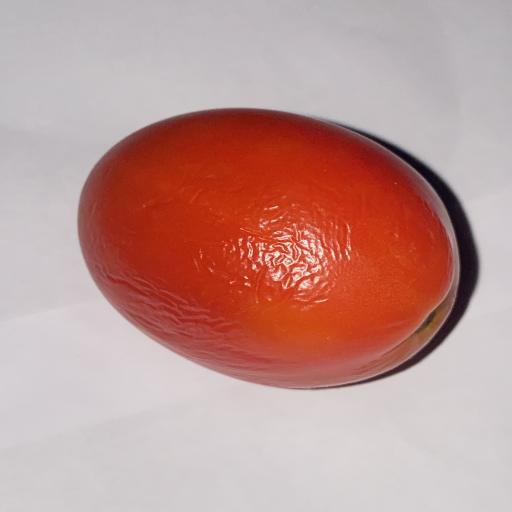spoiled: (78, 109, 459, 387)
